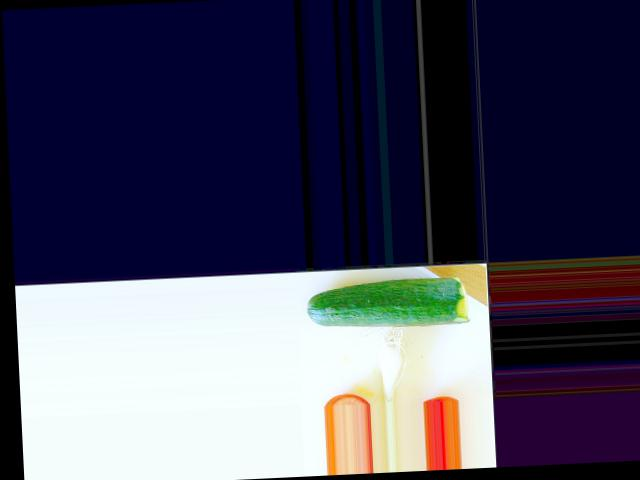cucumber: (304, 275, 469, 330)
